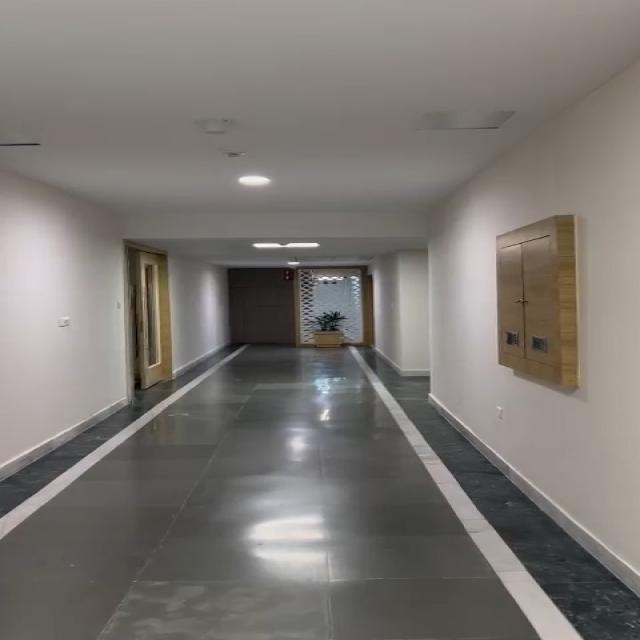door: (230, 260, 381, 352), (128, 246, 176, 394)
floor: (99, 394, 473, 640)
furniture: (284, 299, 354, 351)
wall: (379, 127, 640, 530), (0, 5, 119, 486)
